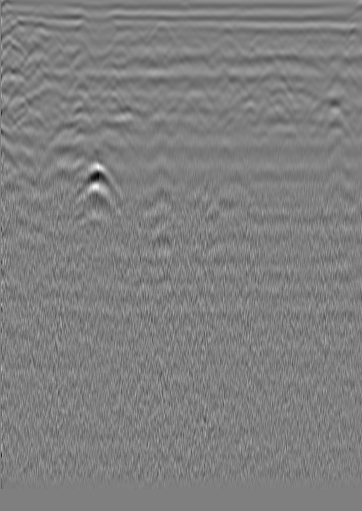가스: (69, 160, 121, 201)
상수: (327, 33, 347, 53)
오수: (27, 37, 47, 57)
우수: (214, 30, 234, 50)
